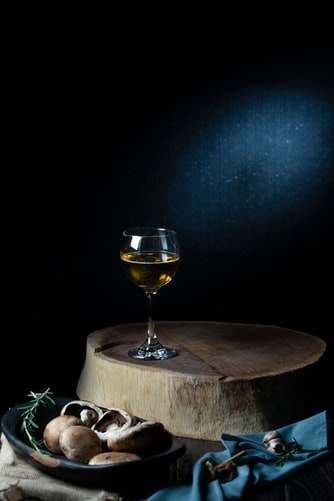whiskey: (117, 225, 188, 354)
